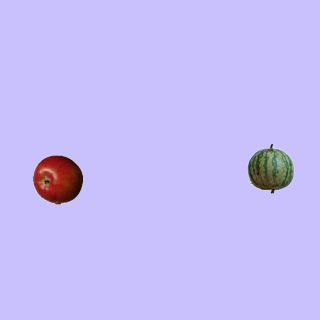Apple Braeburn: (32, 154, 82, 204)
Watermelon: (245, 143, 295, 193)
